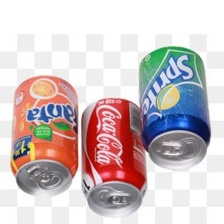can: (137, 43, 213, 173), (6, 73, 81, 199), (80, 95, 148, 220)
